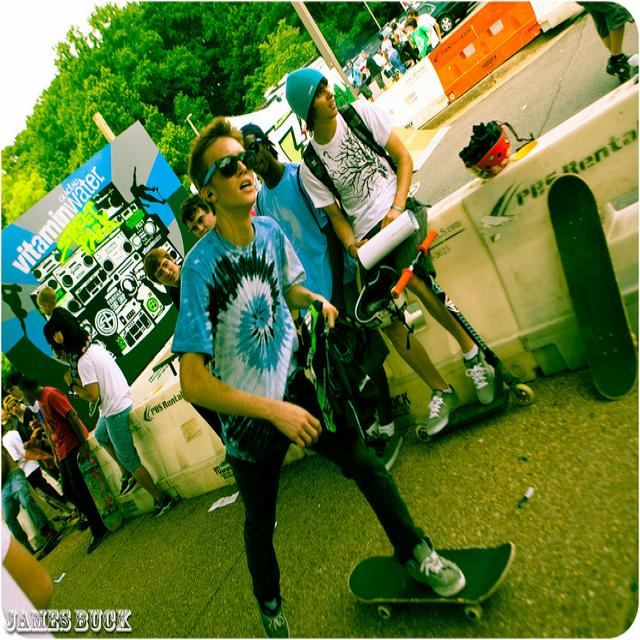Vehicle: (415, 0, 472, 34)
